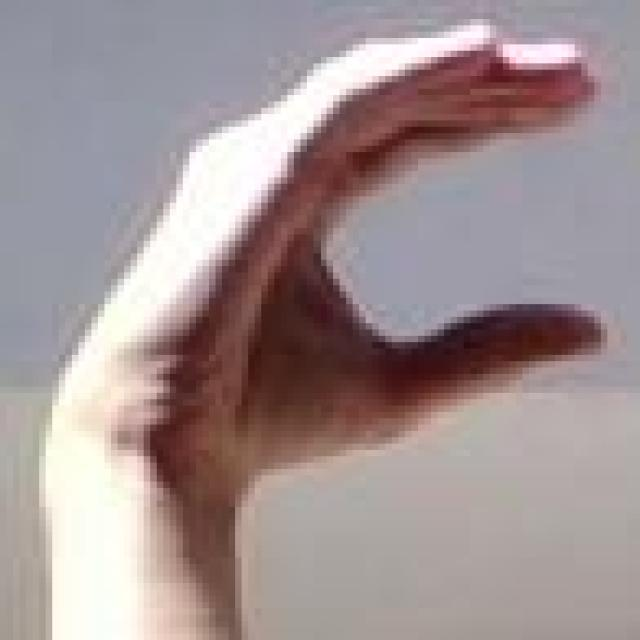C: (6, 3, 640, 502)
